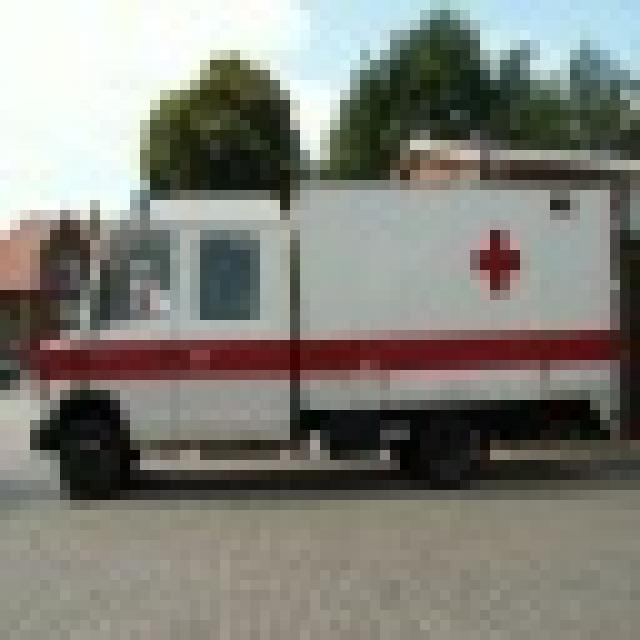Ambulance: (10, 130, 630, 490)
